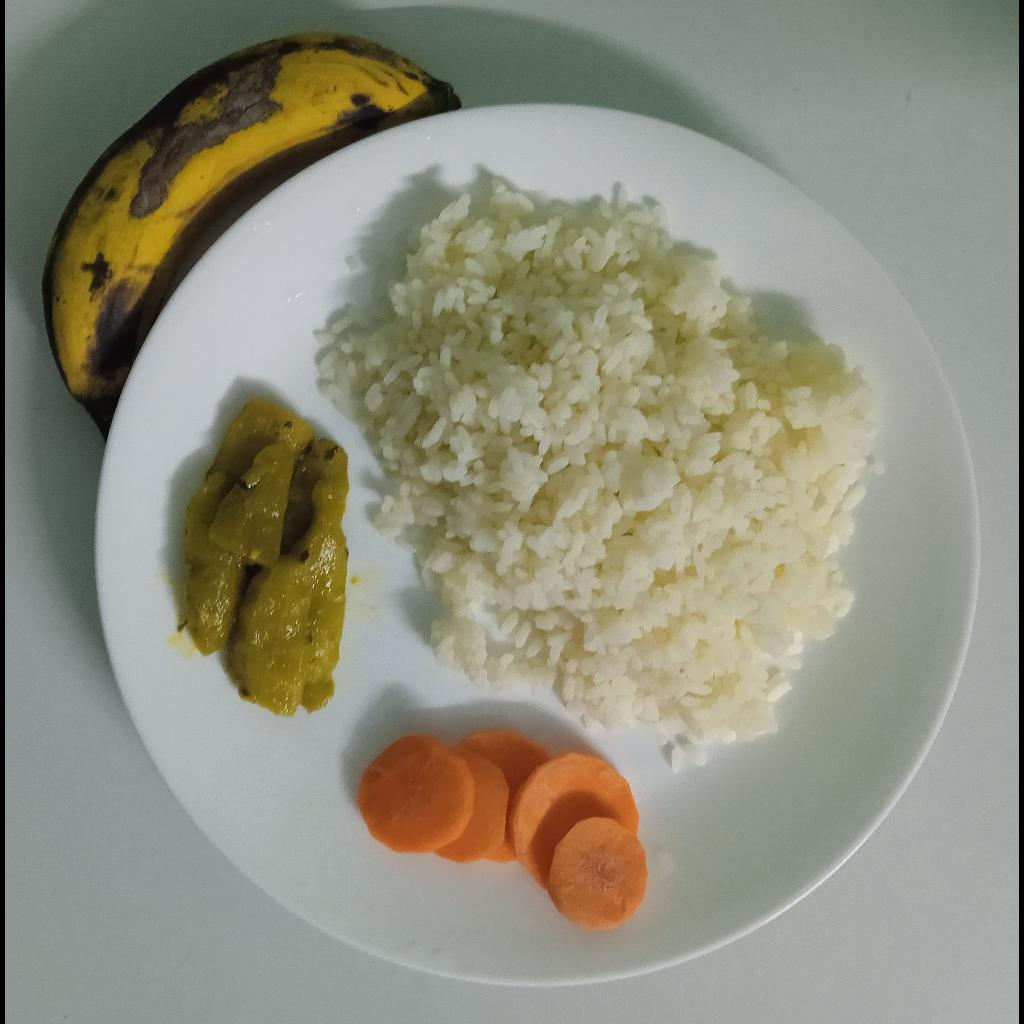banana: (42, 31, 461, 443)
carrot: (356, 730, 650, 929)
dundol: (181, 396, 352, 715)
rice: (315, 180, 878, 780)
